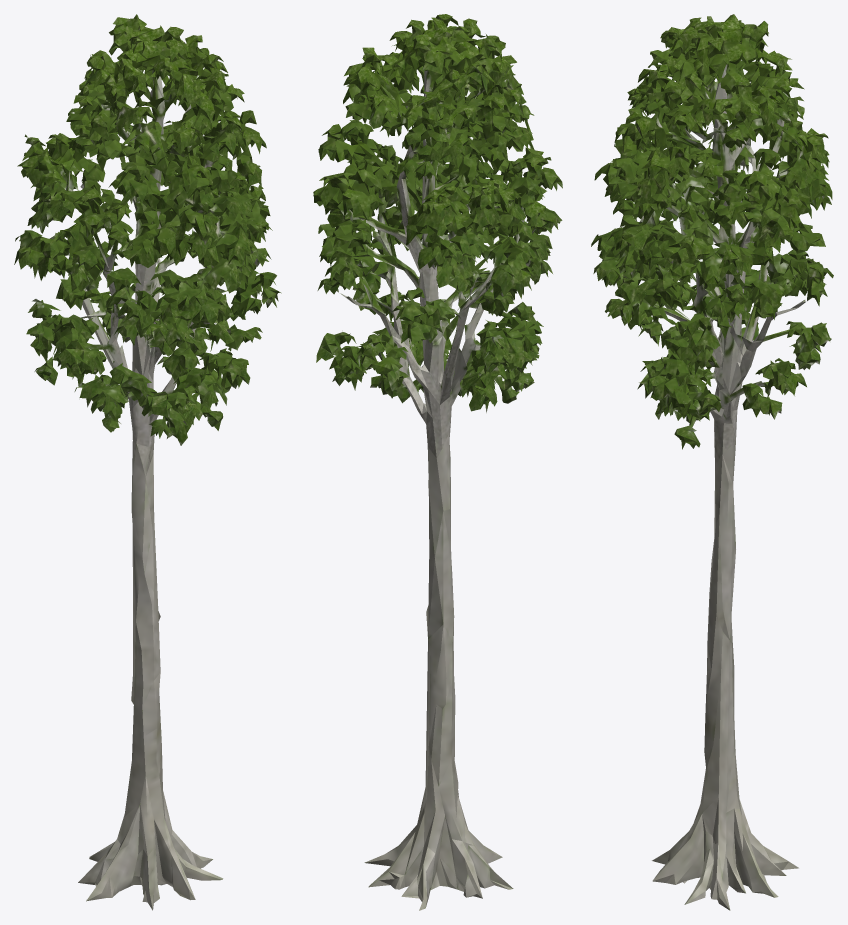
Rendered from remeshed-takhian.glb.
3 renders of one model, left to right at view 1: azimuth 30°, elevation 25°; view 2: azimuth 150°, elevation 25°; view 3: azimuth 270°, elevation 25°, orthographic.
Visible parts, largest first — view 1: output_unwrapped; view 2: output_unwrapped; view 3: output_unwrapped.
Part boxes in pixels (x1,y1,x2,y2): output_unwrapped: (14,14,281,910); output_unwrapped: (313,14,562,910); output_unwrapped: (591,14,833,910).
Size of the model in its own units: 0.5138 by 1.89 by 0.4854.
1 material, 1 textured.
